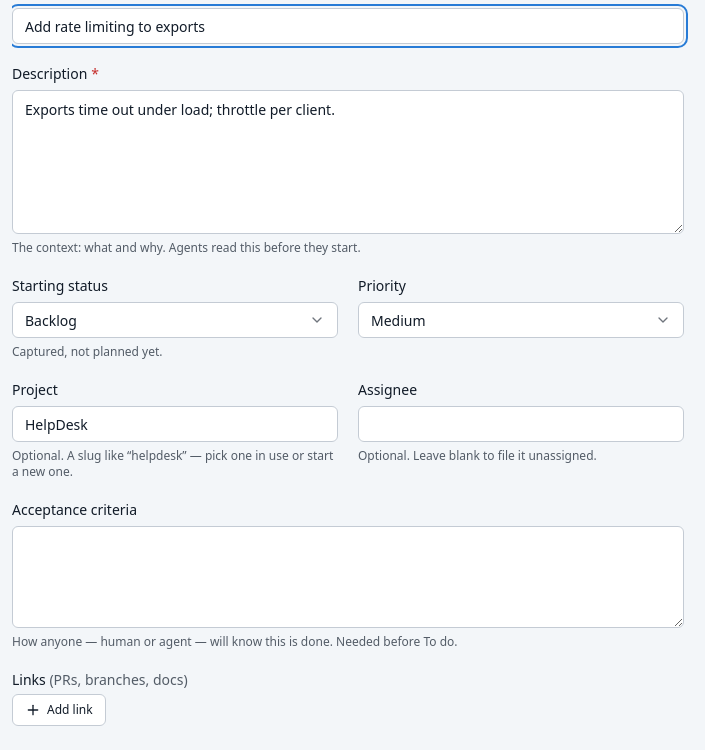
it: TaskForm — validation comes from the contract schema › adds and removes link rows
This screenshot has width=705, height=750.
Step 1. Click the button "Add link" → (59, 710), box left=12, top=694, right=106, bottom=726
(page scrolled)
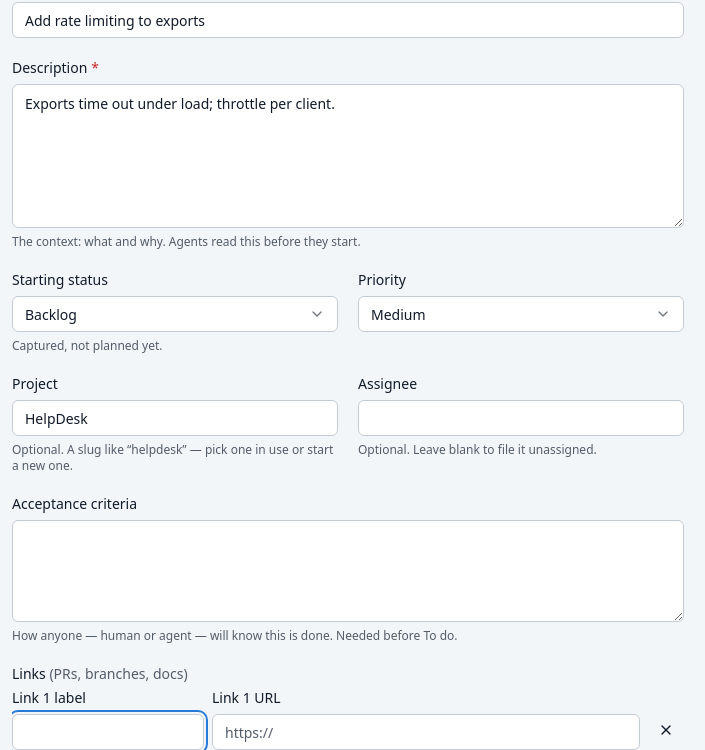
Expected: the field labelled "Link 1 label" is shown, left=12, top=714, right=204, bottom=749
Step 2. Click the button named "Remove link 1" → (666, 730), box left=648, top=712, right=684, bottom=748
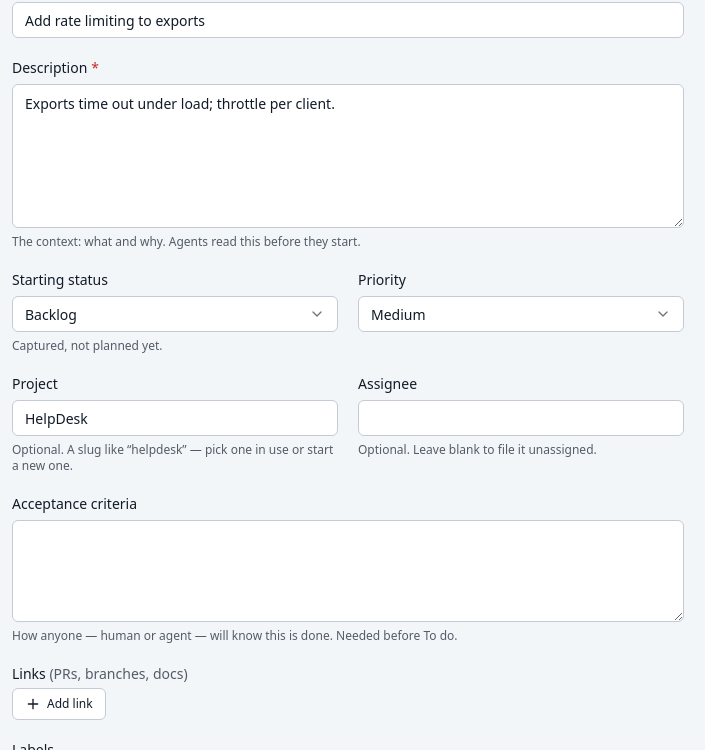
Expected: the label labelled "Link 1 label" is gone
